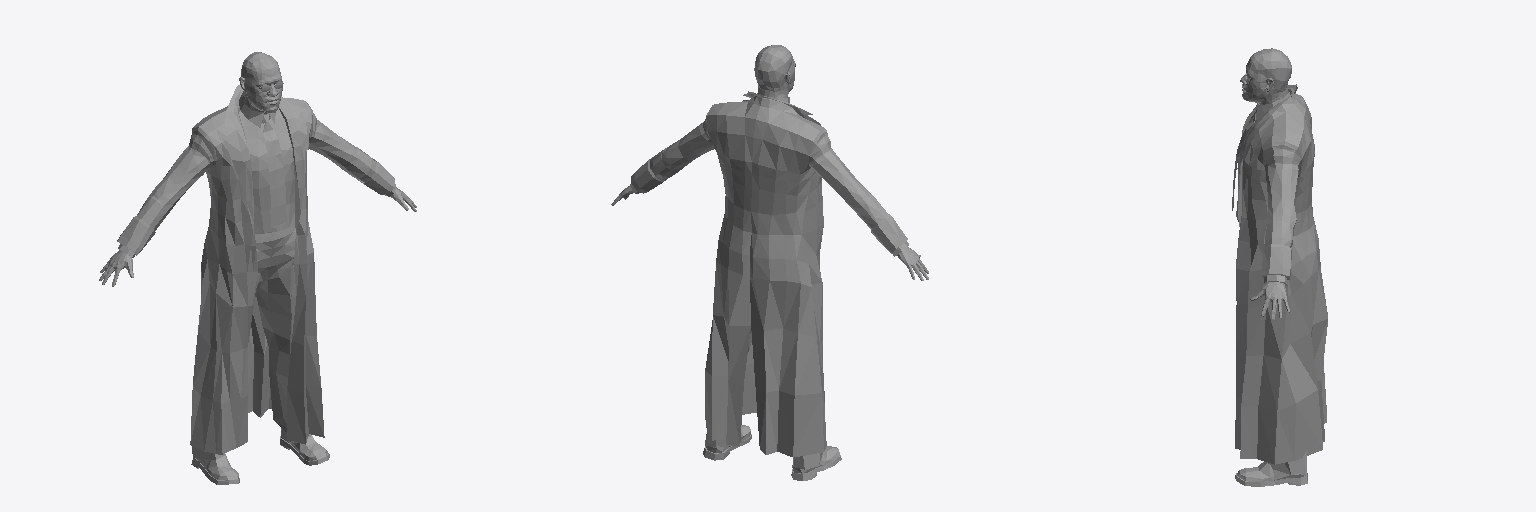
Rendered from Morpheus.obj.
The picture shows the model from 3 angles: view 1: azimuth 30°, elevation 25°; view 2: azimuth 150°, elevation 25°; view 3: azimuth 270°, elevation 25°; orthographic projection.
Size of the model in its own units: 2.94 by 3.66 by 0.7835.